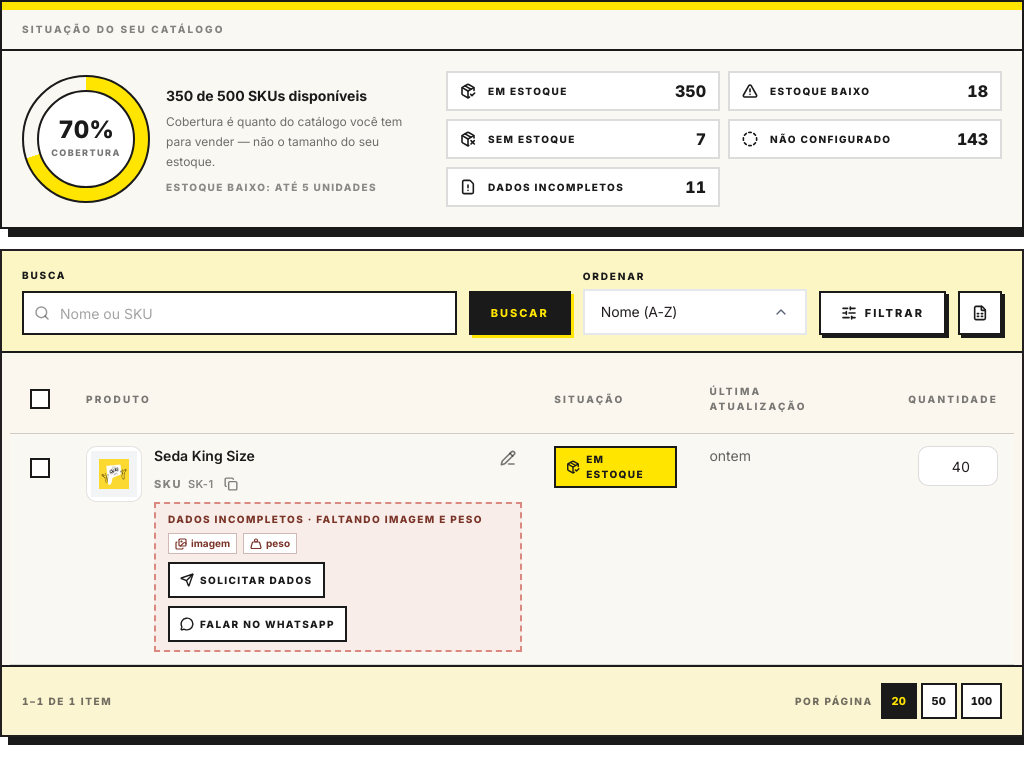
Test: VendorStockManager cadastro incompleto › opens the request with the detected fields and sends only product and message
Click the button "Solicitar dados".
click(246, 580)  # box [168,562,324,598]
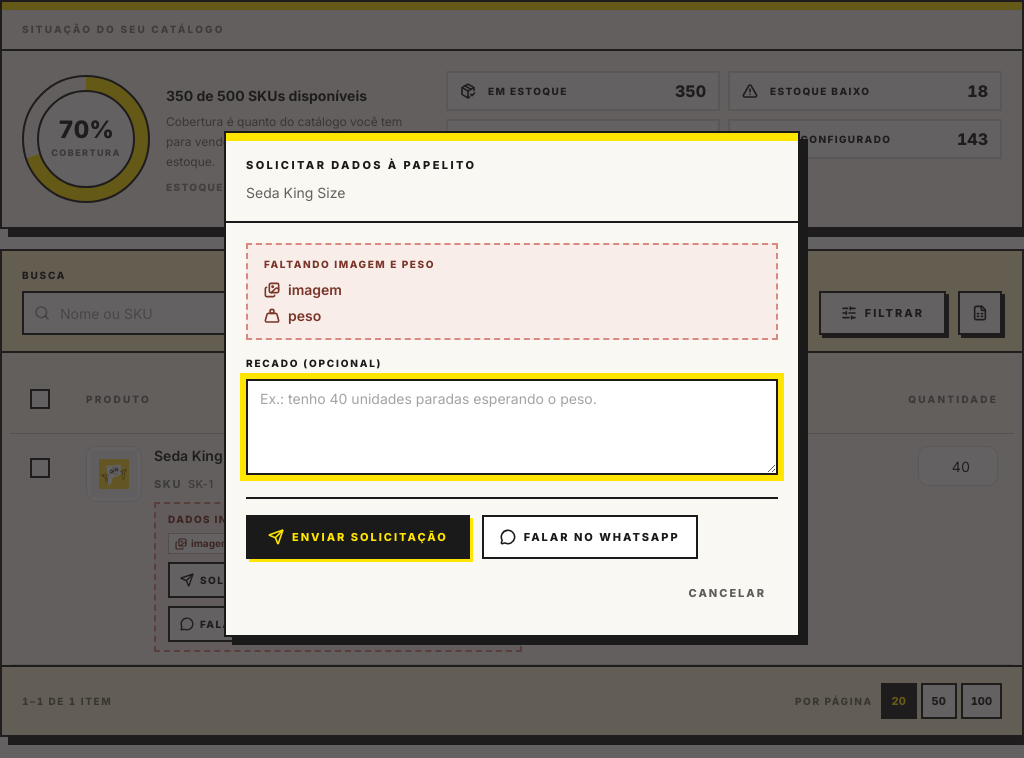
Result: the text "Faltando imagem e peso" is shown at [264,258,435,270]
Type "Tenho 40 unidades paradas." into the text box labelled "Recado (opcional)".
click(512, 427); type("Tenho 40 unidades paradas.")  # box [246,379,778,475]
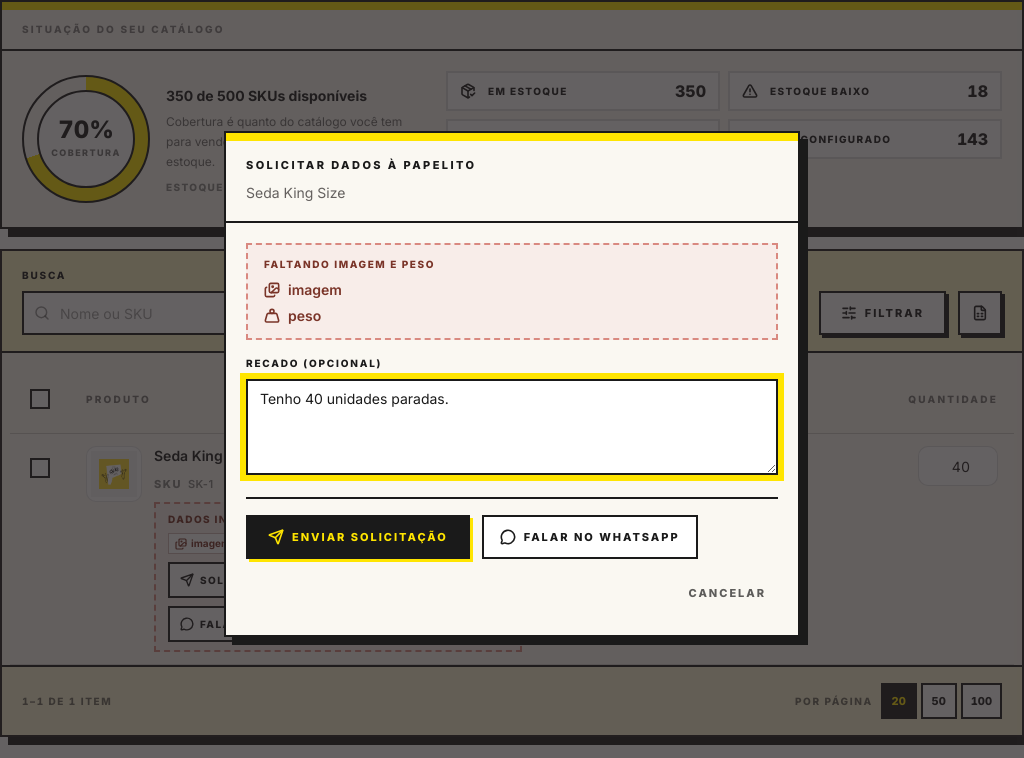
Click the button "Enviar solicitação".
click(358, 537)  # box [246,515,470,559]
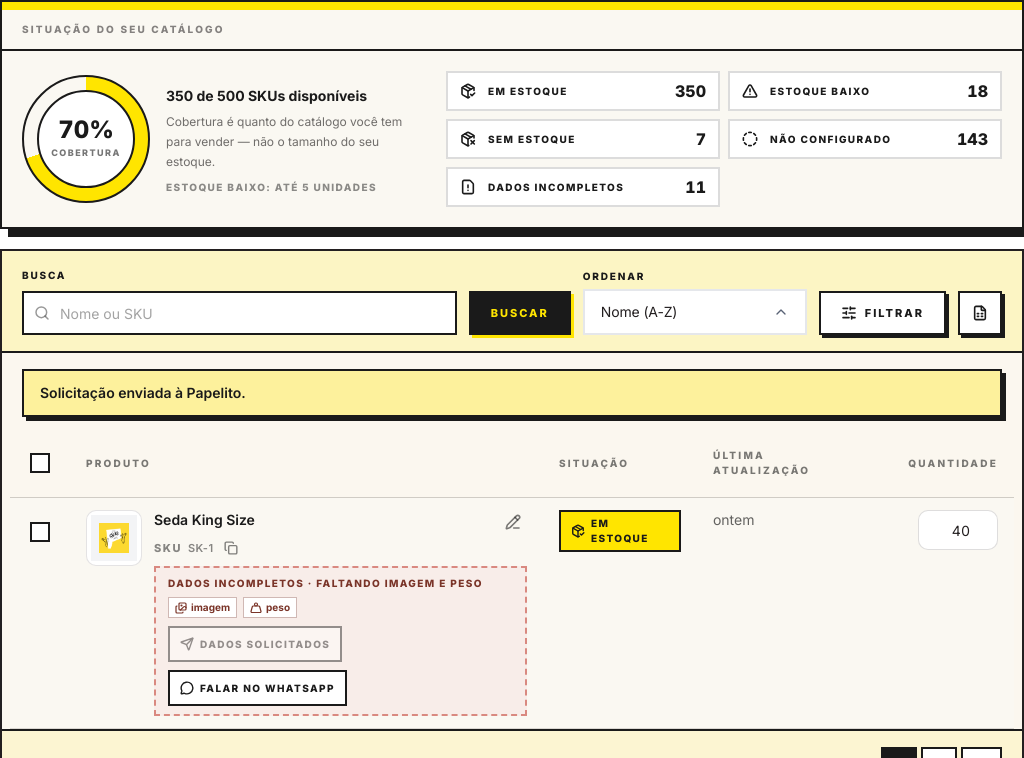
Result: the text "Solicitação enviada à Papelito." is shown at [40,384,246,401]
